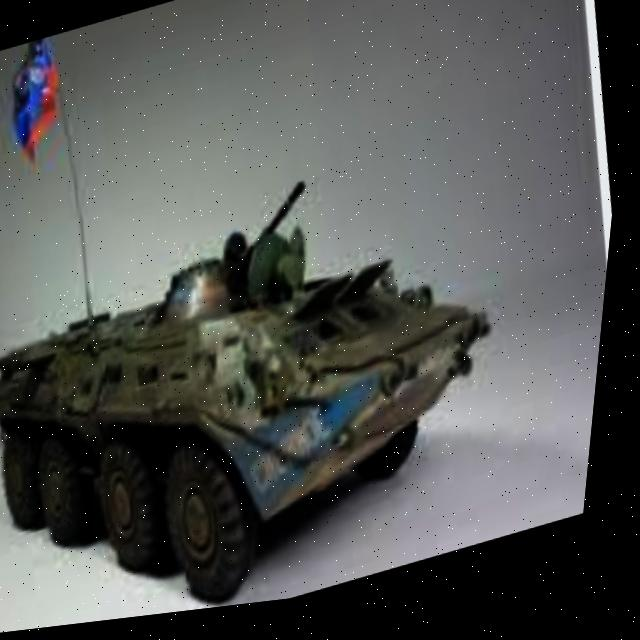MIL_APC: (0, 177, 536, 640)
